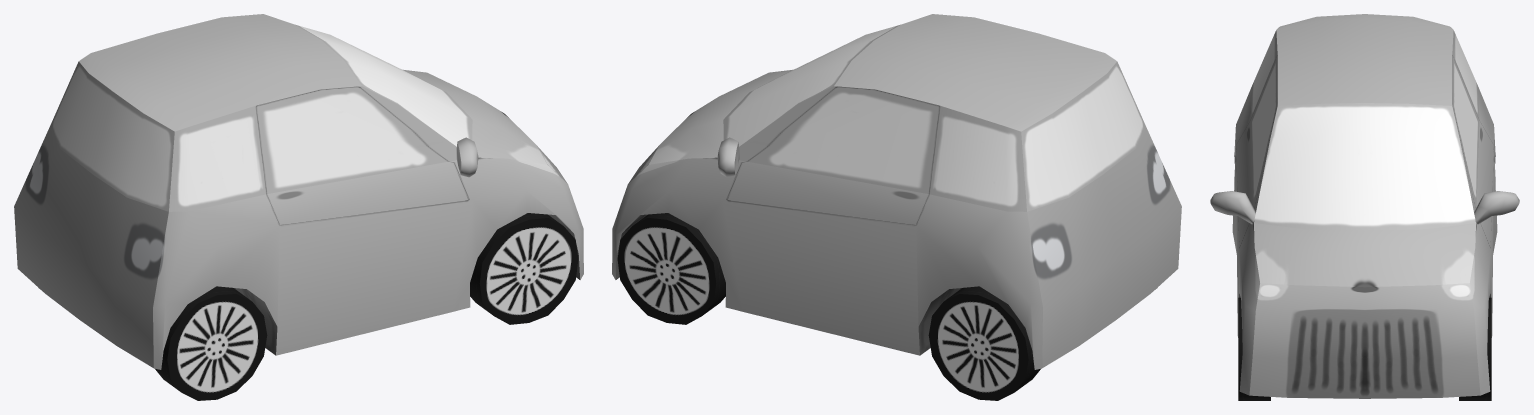
File: smart.fbx
The picture shows the model from 3 angles, left to right: view 1: azimuth 30°, elevation 25°; view 2: azimuth 150°, elevation 25°; view 3: azimuth 270°, elevation 25°; orthographic projection. The views are drawn at different scales.
Visible parts, largest first — view 1: Car_Smart #lod0; view 2: Car_Smart #lod0; view 3: Car_Smart #lod0.
Boxes of the visible parts, box(x1,y1,x2,y2) form: Car_Smart #lod0: box(14, 14, 583, 400); Car_Smart #lod0: box(612, 14, 1181, 400); Car_Smart #lod0: box(1210, 14, 1519, 400).
Bounding box in the file's own units: 269 × 181 × 155.
